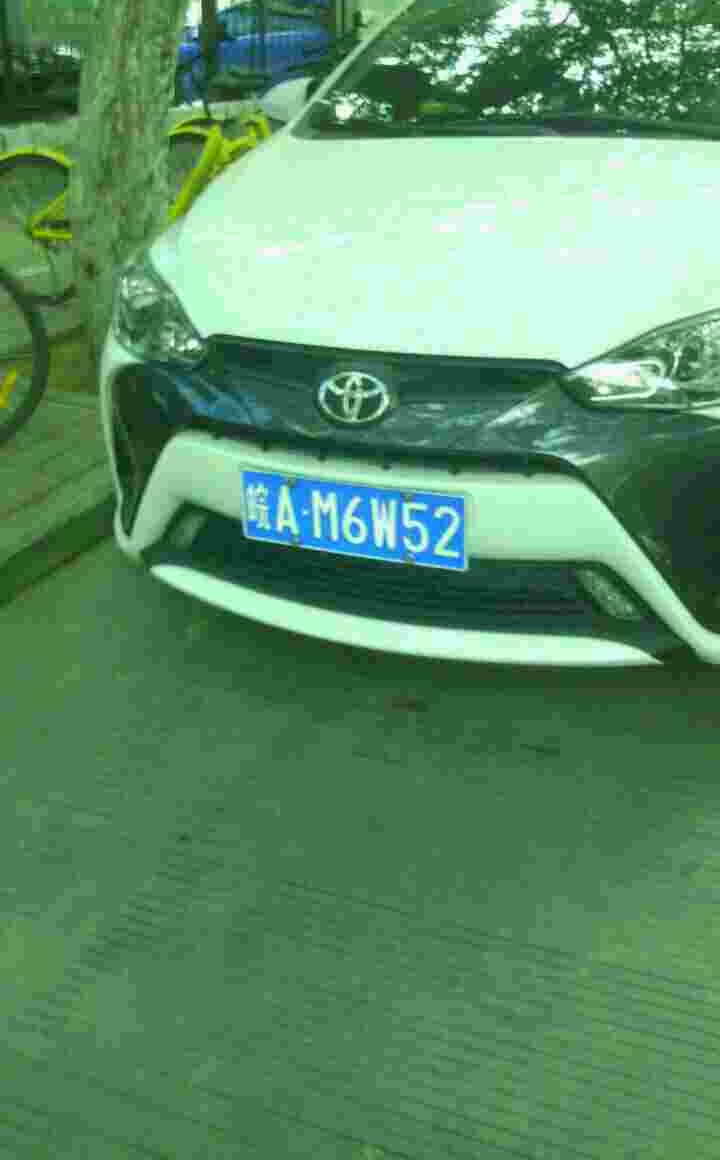plate: (234, 460, 475, 576)
